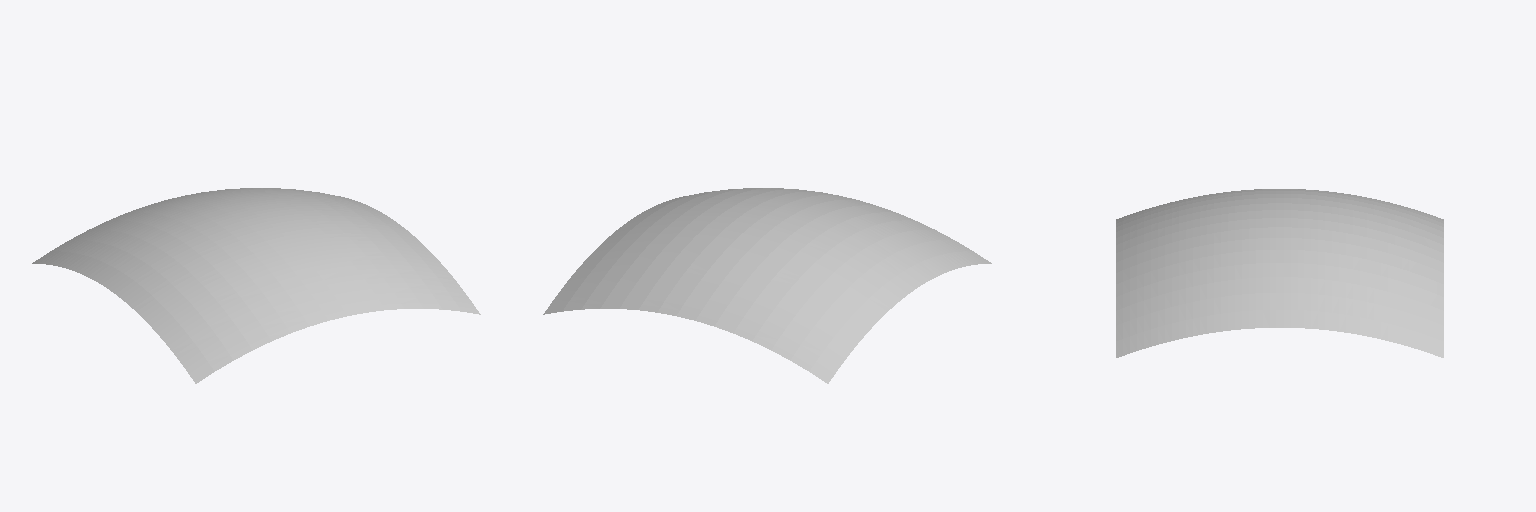
File: surfpatch.obj
3 renders of one model, left to right at view 1: azimuth 30°, elevation 25°; view 2: azimuth 150°, elevation 25°; view 3: azimuth 270°, elevation 25°, orthographic.
Parts seen in each view (by area): view 1: SurfPatch; view 2: SurfPatch; view 3: SurfPatch.
Boxes of the visible parts, box(x1,y1,x2,y2) form: SurfPatch: box(32, 188, 480, 383); SurfPatch: box(543, 188, 991, 383); SurfPatch: box(1116, 189, 1443, 357).
Bounding box in the file's own units: 1 × 0.2234 × 1.